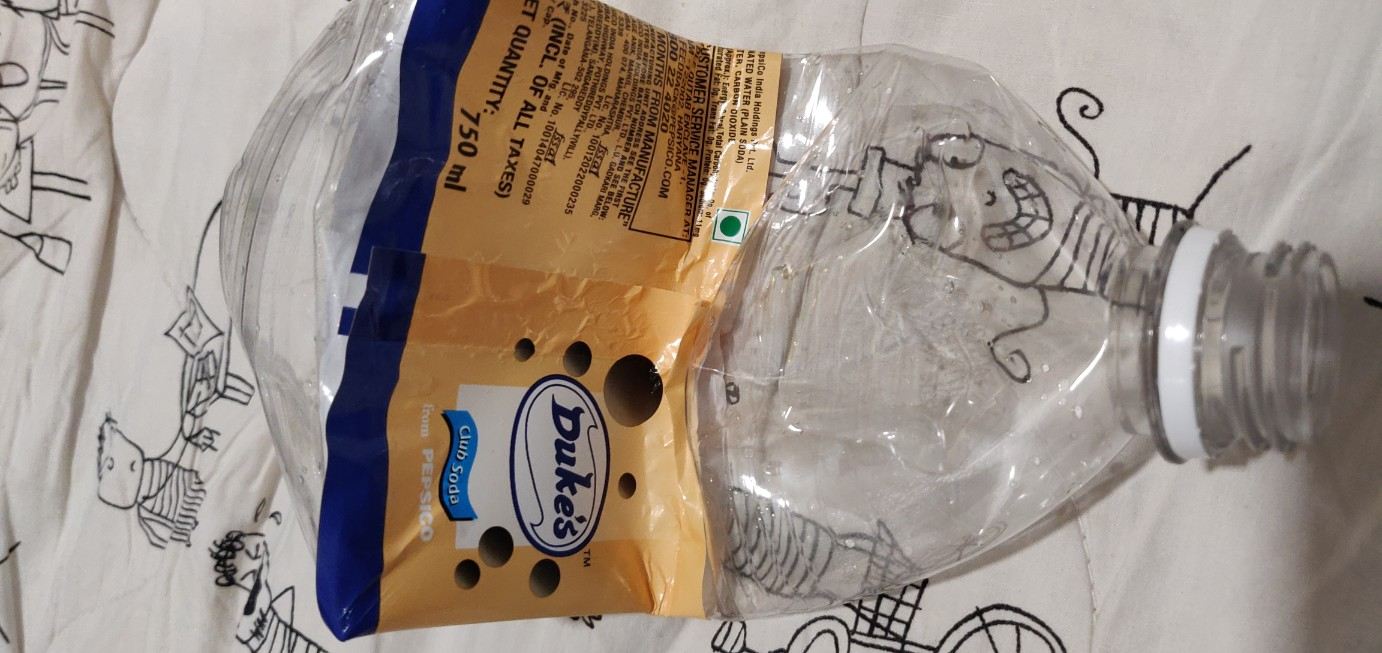Electronics: (197, 1, 1379, 638)
